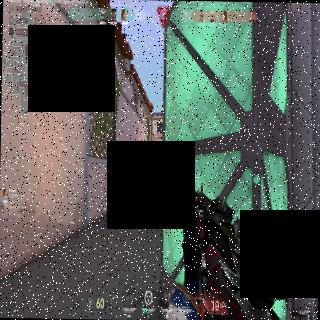ENEMY-BODY: (152, 152, 156, 166)
ENEMY-HEAD: (154, 152, 154, 156)
